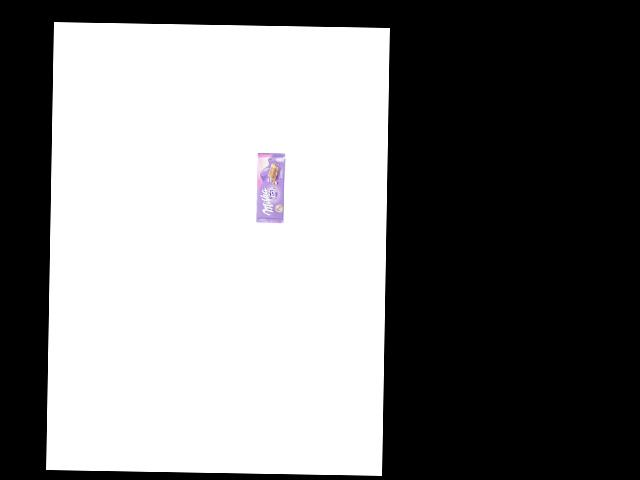chocolate: (255, 153, 286, 223)
